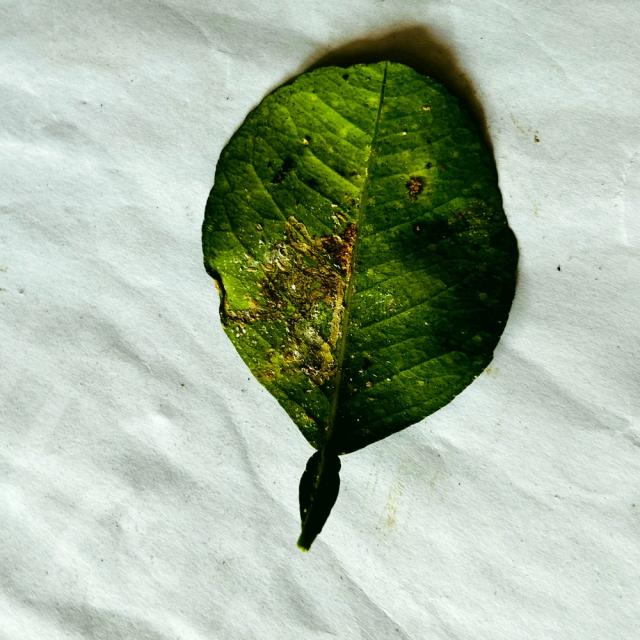Bacterial_Blight: (354, 348, 481, 433), (278, 90, 371, 176), (398, 192, 500, 259), (280, 141, 360, 210), (352, 266, 446, 324), (358, 226, 458, 276), (437, 292, 507, 358), (373, 86, 453, 137), (316, 77, 382, 135), (268, 364, 328, 424), (213, 255, 265, 316), (446, 244, 513, 289), (249, 133, 295, 187), (233, 178, 282, 224), (204, 228, 251, 271), (338, 65, 391, 102), (426, 194, 484, 227), (259, 102, 297, 141), (404, 168, 436, 210), (304, 300, 335, 337), (305, 278, 324, 295), (300, 252, 318, 268)
Lemon: (201, 60, 520, 552)
